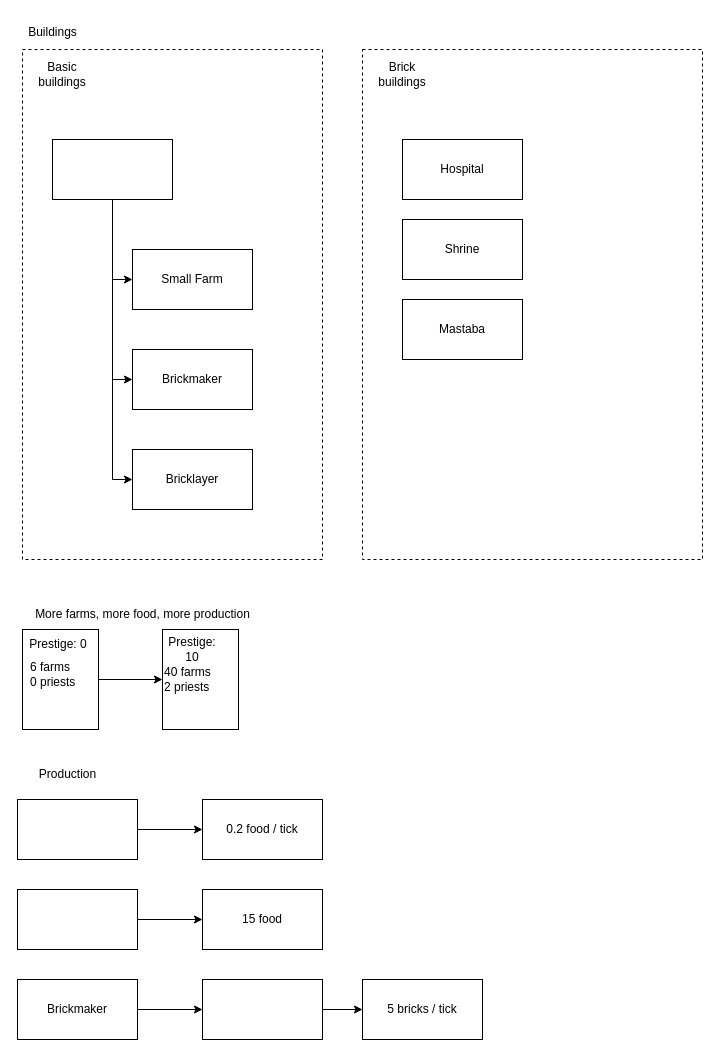
Some shapes in this 720 by 1057 pixel diagram are drawn without their labels. Here are the shapes that lost their labels. From the top down, the box of each, then its label:
(52, 138, 172, 200): Palace
(16, 798, 138, 860): Fruits
(16, 888, 138, 950): Farm per full cycle
(202, 978, 322, 1040): 2 resource
